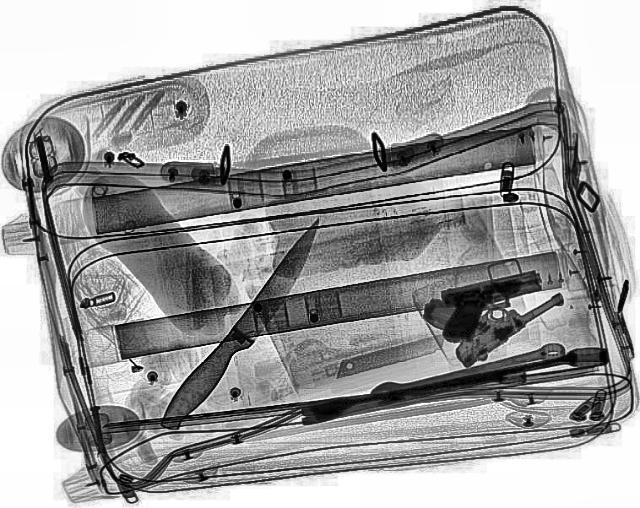Gun: (402, 250, 572, 370), (429, 269, 559, 342)
Knife: (153, 211, 337, 433)
Wrench: (367, 338, 568, 404)
